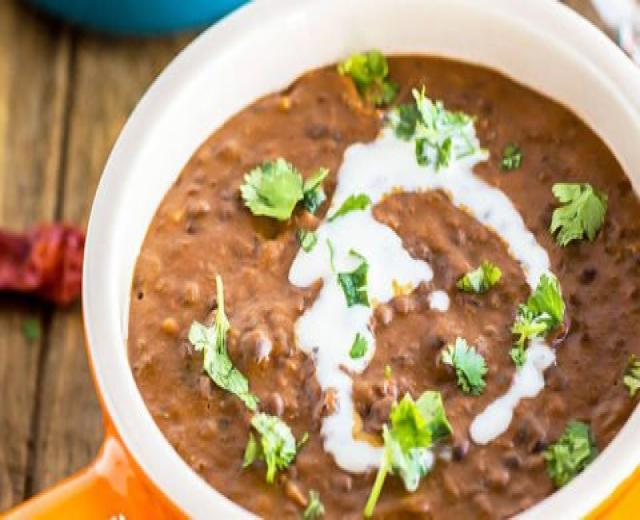dal makhni: (128, 44, 628, 509), (144, 183, 293, 391)
